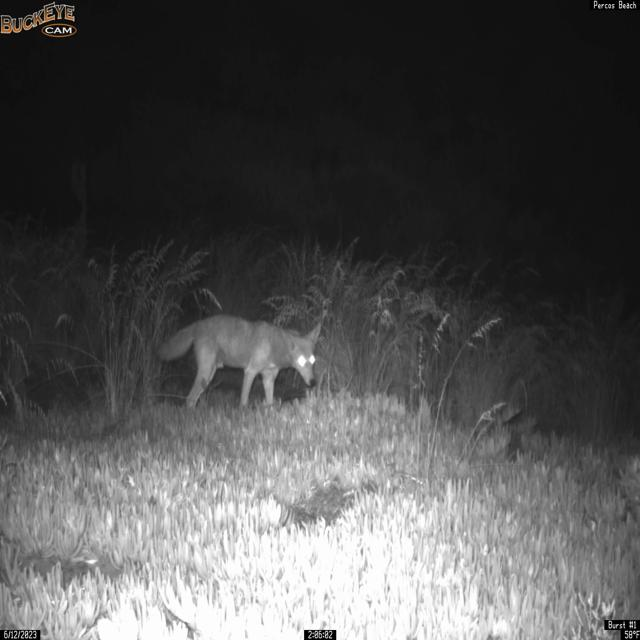coyote: (157, 313, 322, 411)
